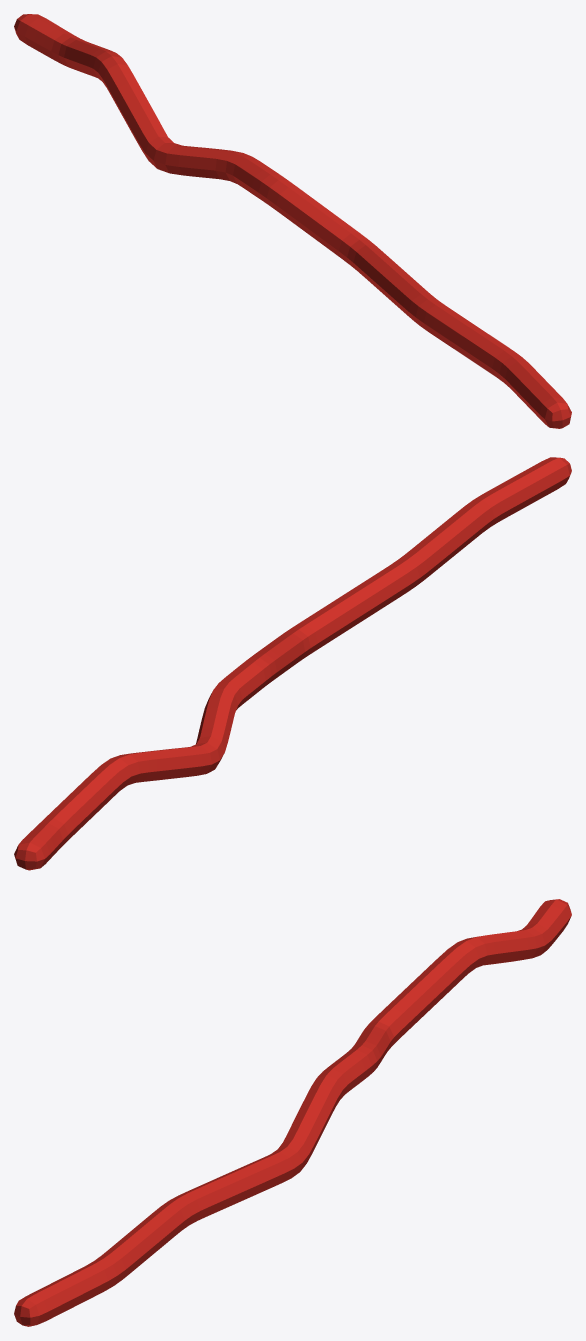
File: ketchup.fbx
The picture shows the model from 3 angles, top to bottom: view 1: azimuth 30°, elevation 25°; view 2: azimuth 150°, elevation 25°; view 3: azimuth 330°, elevation 25°; orthographic projection. The views are drawn at different scales.
Parts seen in each view (by area): view 1: Sauce; view 2: Sauce; view 3: Sauce.
Part boxes in pixels (left/top/right/bottom): Sauce: left=14, top=14, right=571, bottom=428; Sauce: left=14, top=457, right=571, bottom=870; Sauce: left=14, top=899, right=571, bottom=1326.
Size of the model in its own units: 4.51 by 3.58 by 52.99.
